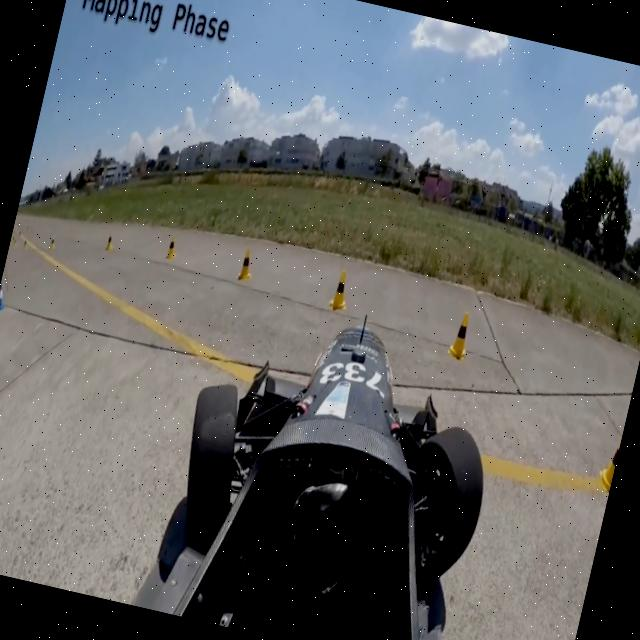blue_cone: (0, 279, 9, 315)
yellow_cone: (595, 430, 622, 493), (447, 309, 475, 358), (327, 268, 354, 314), (236, 247, 258, 282), (164, 234, 180, 261)
